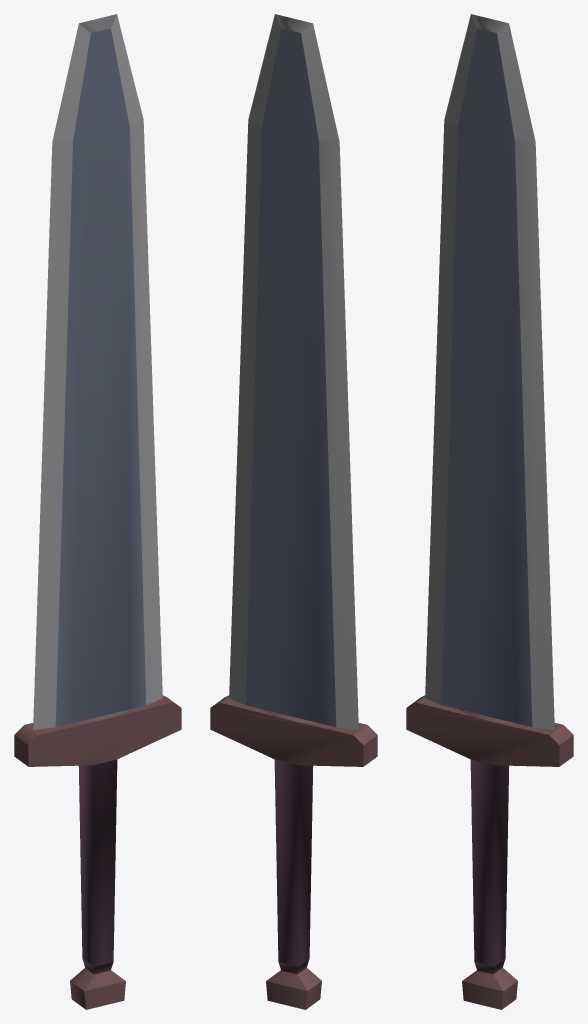
File: sword.fbx
3 views of the same model, side by side, from view 1: azimuth 30°, elevation 25°; view 2: azimuth 150°, elevation 25°; view 3: azimuth 330°, elevation 25° (orthographic).
Visible parts, largest first — view 1: sword; view 2: sword; view 3: sword.
Part boxes in pixels (x1,y1,x2,y2): sword: [14, 14, 181, 1009]; sword: [210, 14, 377, 1009]; sword: [406, 14, 573, 1009].
Bounding box in the file's own units: 43.31 × 265 × 7.16.
